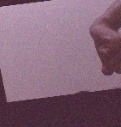hand: (87, 21, 121, 76)
